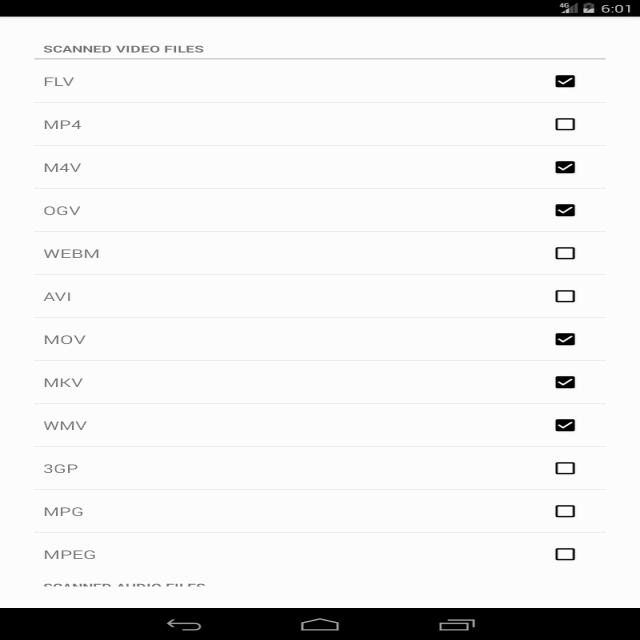CheckBox: (547, 194, 586, 222), (544, 453, 584, 479), (544, 498, 582, 522), (546, 242, 586, 264), (546, 372, 584, 394), (546, 155, 582, 177)
TextView: (31, 38, 215, 58), (35, 238, 121, 268), (38, 325, 109, 349), (39, 544, 110, 565), (37, 115, 104, 134), (35, 416, 95, 436)
